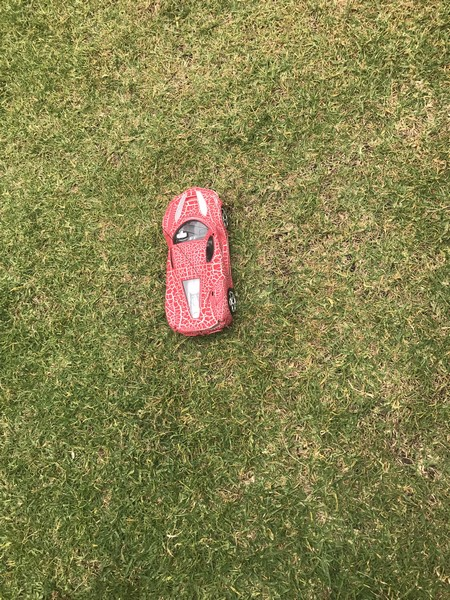RC: (159, 186, 238, 339)
